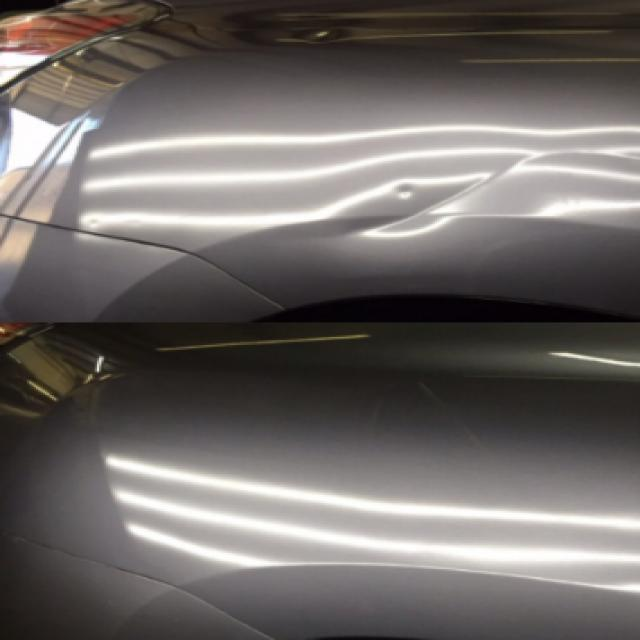dents: (381, 176, 433, 226)
